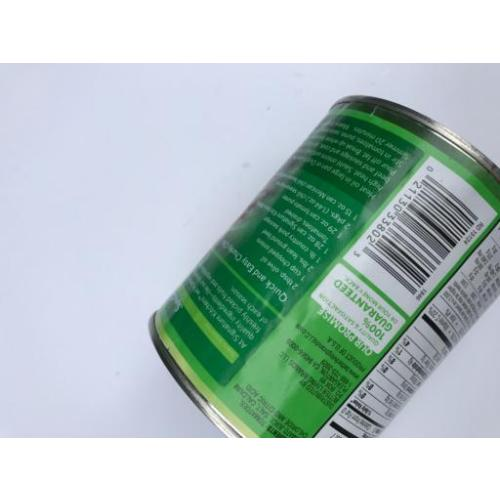metal: (146, 91, 499, 436)
